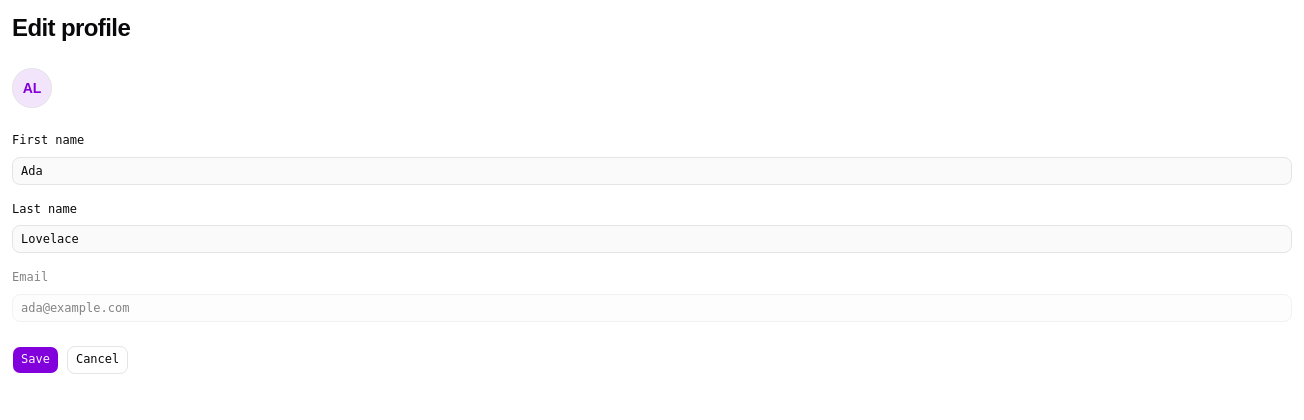
Edit profile page › shows a validation error and does not submit when first name is cleared
Clear the field labelled "First name" at coordinates (652, 170), box [12,156,1292,184]
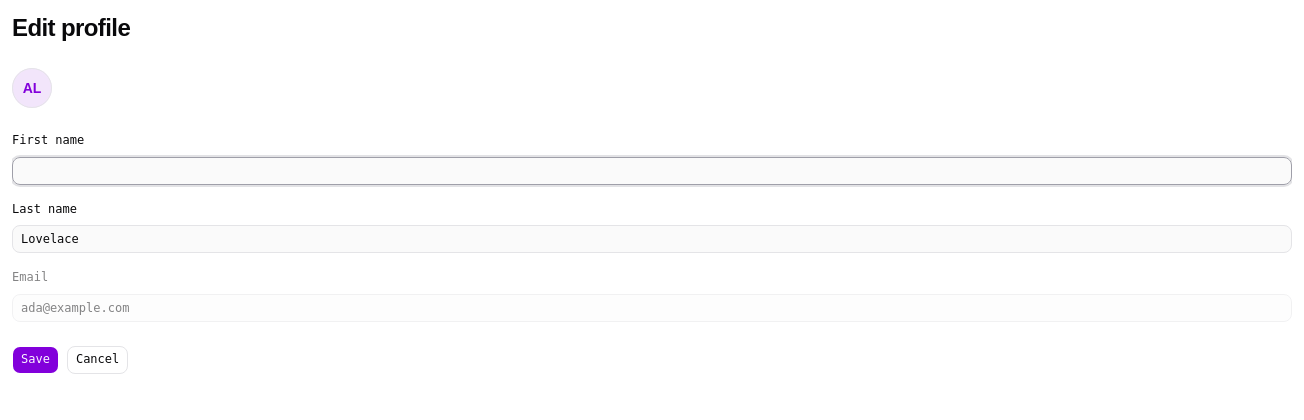
Click the button "Save" at coordinates (35, 360), box [12,346,59,374]
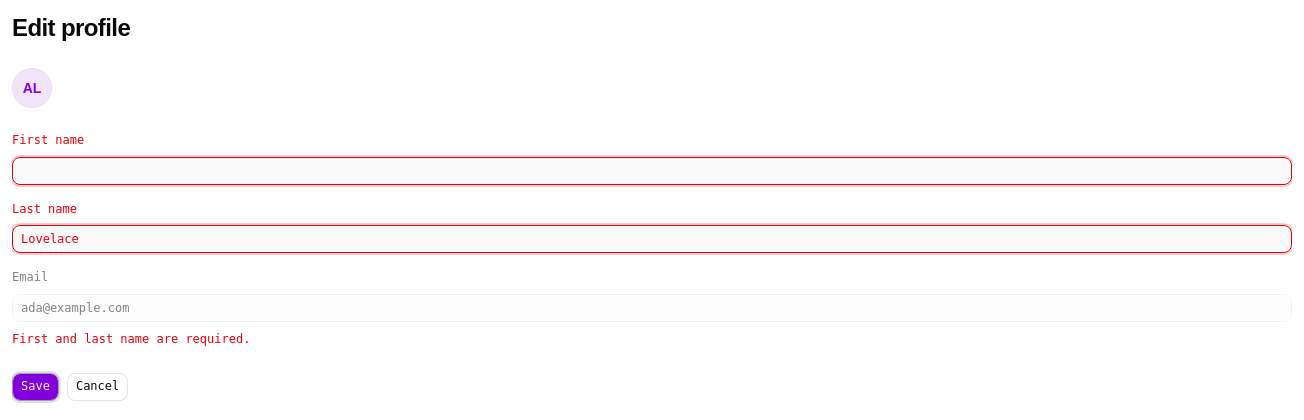
Expected: the message shows "required", [12,332,250,346]
